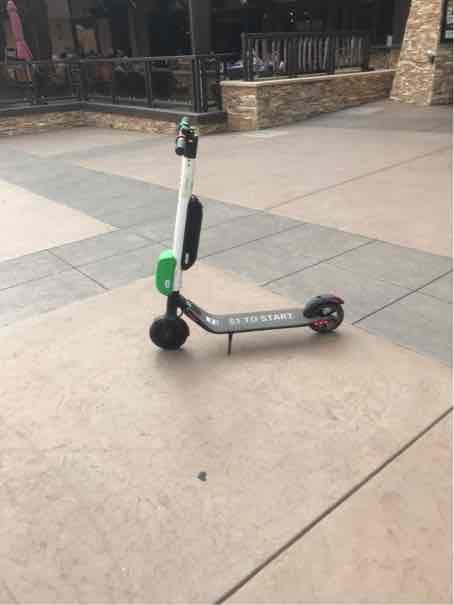scooter: (143, 105, 355, 364)
